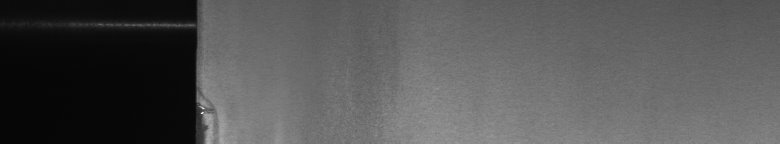hb: (204, 92, 225, 136)
